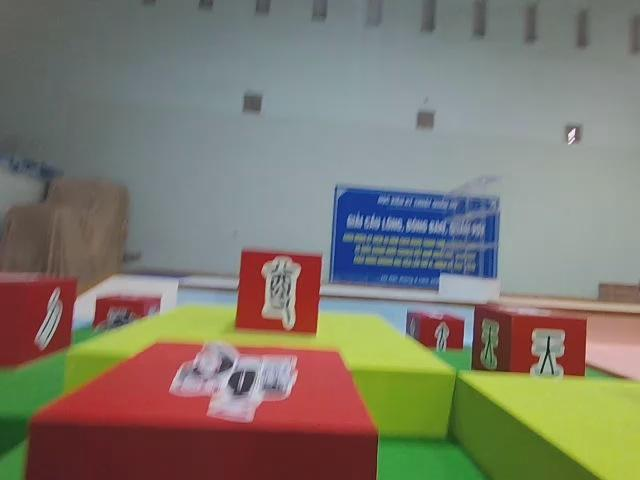R1: (22, 338, 380, 480), (91, 291, 163, 340)
R2 Fake: (232, 244, 327, 336)
R2 Real: (470, 300, 589, 383), (0, 272, 77, 371), (407, 309, 466, 355)
